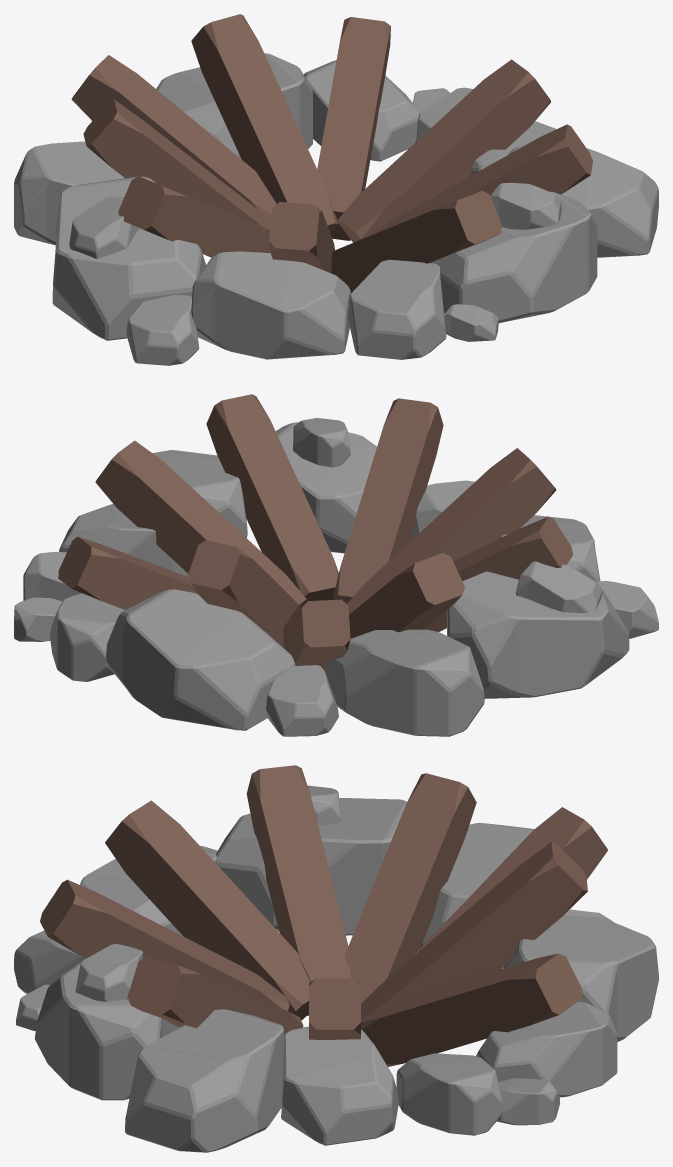
File: Campfire.fbx
3 views of the same model, one above another, from view 1: azimuth 30°, elevation 25°; view 2: azimuth 150°, elevation 25°; view 3: azimuth 270°, elevation 25° (orthographic). The views are drawn at different scales.
Parts seen in each view (by area): view 1: Stone 1, Wood; view 2: Stone 1, Wood; view 3: Wood, Stone 1.
Part boxes in pixels (<box>): Stone 1: <box>14,53,658,365</box>; Wood: <box>71,14,592,292</box>; Stone 1: <box>14,418,658,736</box>; Wood: <box>58,394,572,675</box>; Wood: <box>40,765,607,1066</box>; Stone 1: <box>14,785,658,1152</box>.
Size of the model in its own units: 307 by 101 by 286.
